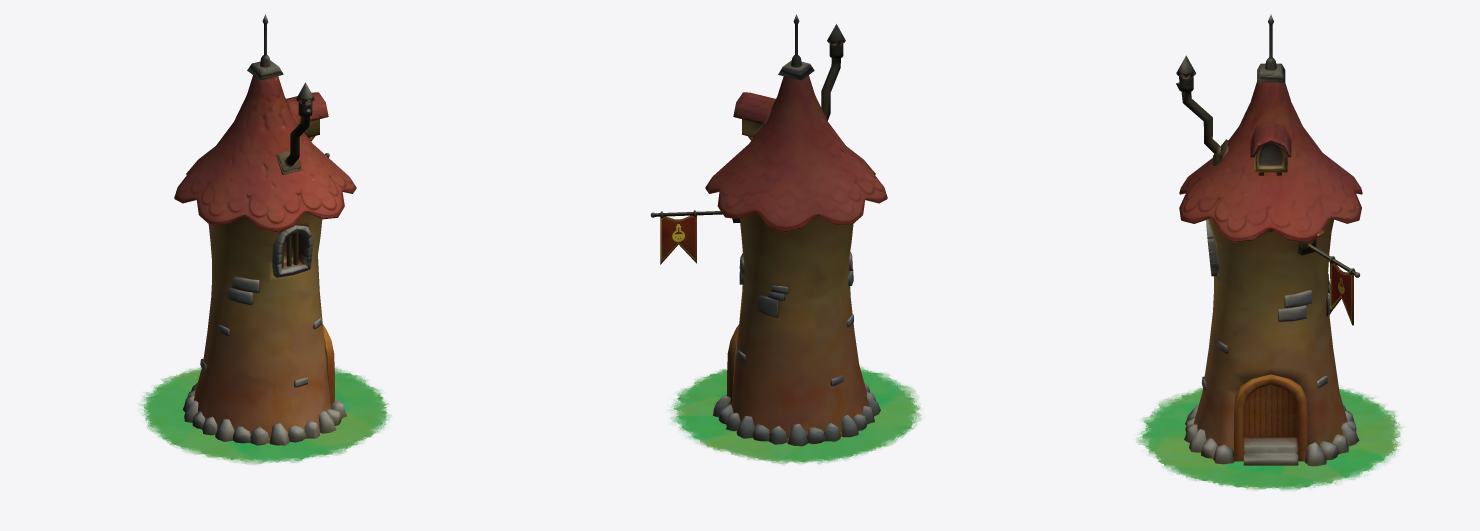
Rendered from PRP_WallTower.glb.
3 views of the same model, side by side, from view 1: azimuth 30°, elevation 25°; view 2: azimuth 150°, elevation 25°; view 3: azimuth 270°, elevation 25° (orthographic). The views are drawn at different scales.
Parts seen in each view (by area): view 1: defaultMaterial (×2); view 2: defaultMaterial (×2); view 3: defaultMaterial (×2).
Part boxes in pixels (bbox=[...]): defaultMaterial (×2): bbox=[138, 14, 391, 464]; defaultMaterial (×2): bbox=[650, 14, 921, 464]; defaultMaterial (×2): bbox=[1136, 14, 1403, 490].
Size of the model in its own units: 600 by 720 by 600.
Materials: 2 (2 with a texture image).
